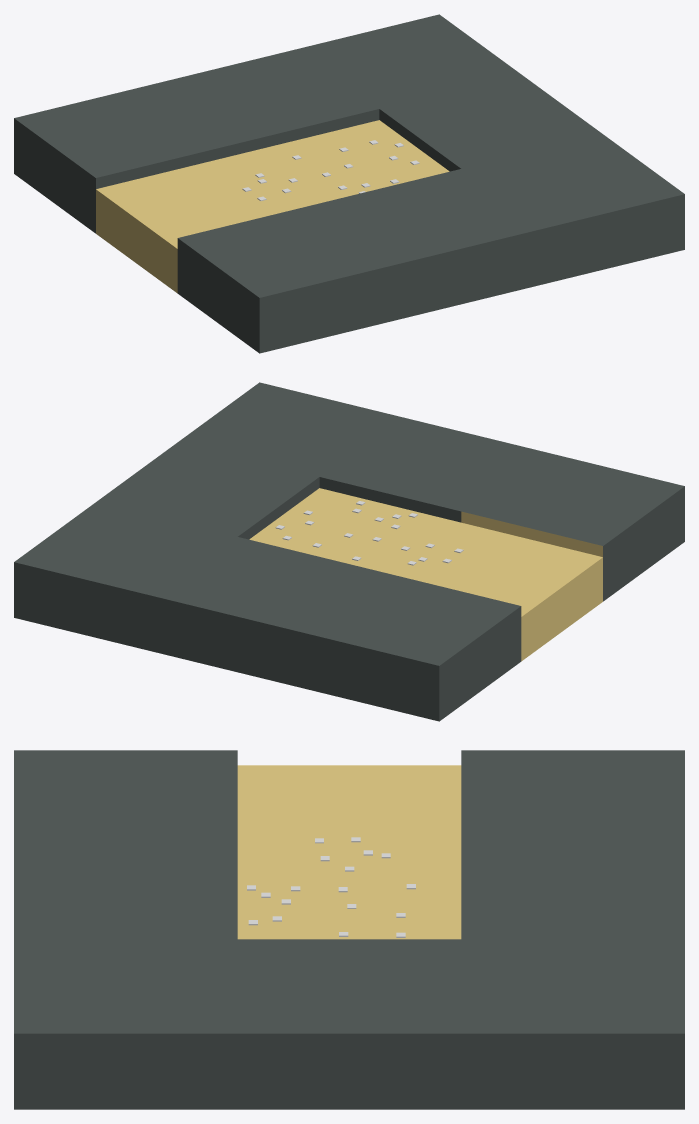
The model's file is Jalan_DeadEnd.fbx.
3 renders of one model, top to bottom at view 1: azimuth 30°, elevation 25°; view 2: azimuth 150°, elevation 25°; view 3: azimuth 270°, elevation 25°, orthographic. The views are drawn at different scales.
Parts seen in each view (by area): view 1: Cube; view 2: Cube; view 3: Cube.
Part boxes in pixels (<box>): Cube: <box>14,14,684,353</box>; Cube: <box>14,382,684,721</box>; Cube: <box>14,750,684,1109</box>.
Bounding box in the file's own units: 200 × 25 × 200.
